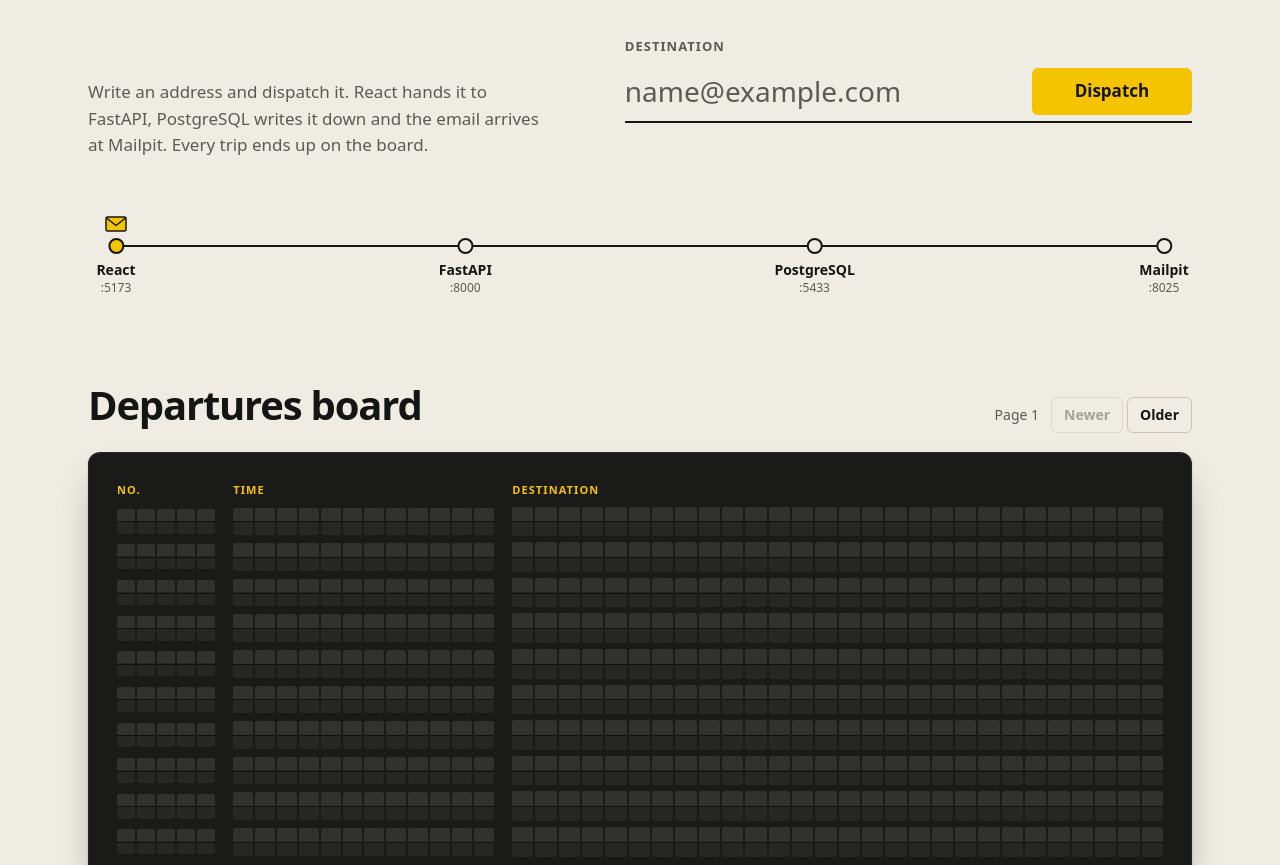
Test: HomePage board › a full page enables the older ones, a short one ends the pages
(page scrolled)
Click the button "Older" at coordinates (1160, 415), box [1127,397,1192,433]
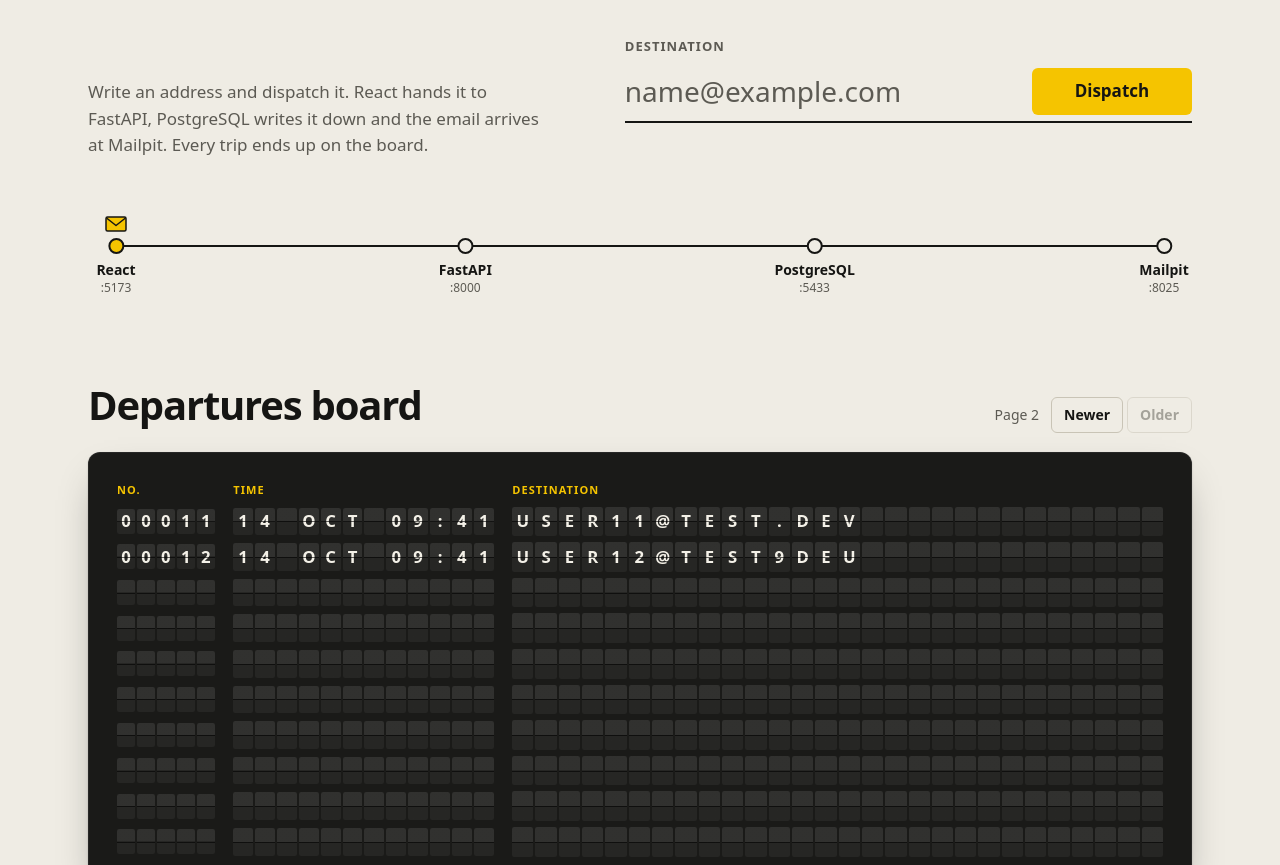
Result: the text "Page 2" is shown at [995,404,1039,426]
